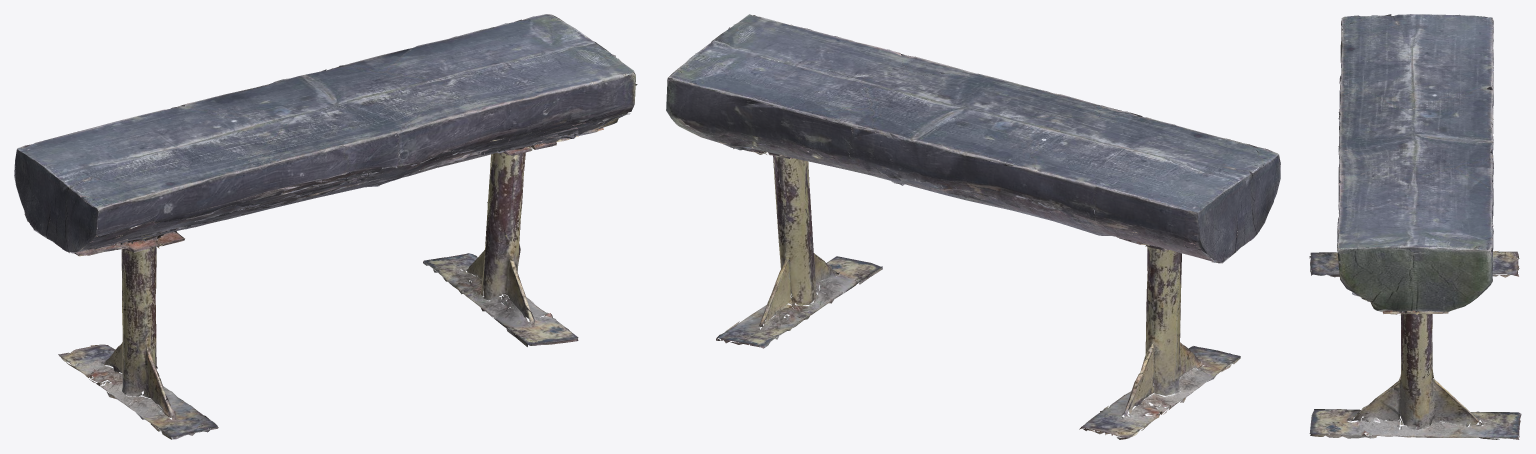
File: bench_scan.glb
3 views of the same model, side by side, from view 1: azimuth 30°, elevation 25°; view 2: azimuth 150°, elevation 25°; view 3: azimuth 270°, elevation 25° (orthographic). The views are drawn at different scales.
Parts seen in each view (by area): view 1: Object_2; view 2: Object_2; view 3: Object_2.
Part boxes in pixels (box(x1,y1,x2,y2)): Object_2: box(14, 14, 637, 439); Object_2: box(666, 14, 1280, 439); Object_2: box(1309, 14, 1521, 439).
Bounding box in the file's own units: 1.09 × 0.4681 × 0.4028.
Materials: 1 (1 with a texture image).
